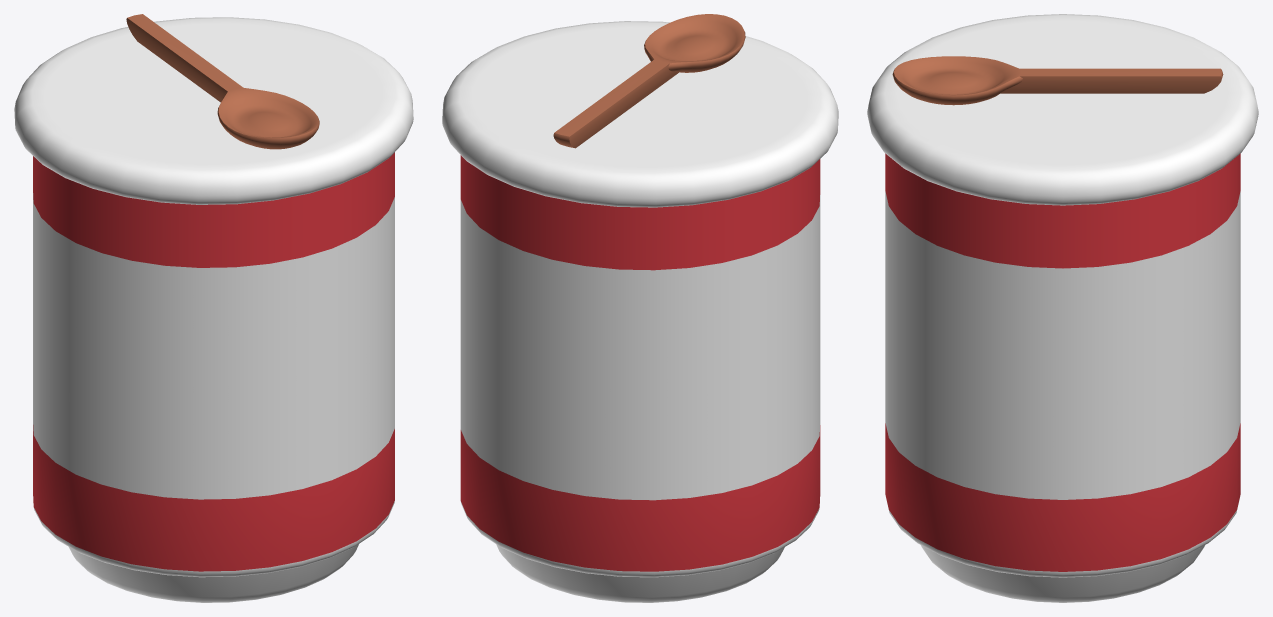
Rendered from Yoghurth.fbx.
3 views of the same model, side by side, from view 1: azimuth 30°, elevation 25°; view 2: azimuth 150°, elevation 25°; view 3: azimuth 270°, elevation 25° (orthographic).
Parts seen in each view (by area): view 1: Yogurth; view 2: Yogurth; view 3: Yogurth.
Boxes of the visible parts, x1=… form: Yogurth: x1=14, y1=14, x2=413, y2=602; Yogurth: x1=442, y1=14, x2=838, y2=602; Yogurth: x1=867, y1=14, x2=1258, y2=602.
Bounding box in the file's own units: 194 × 252 × 188.
